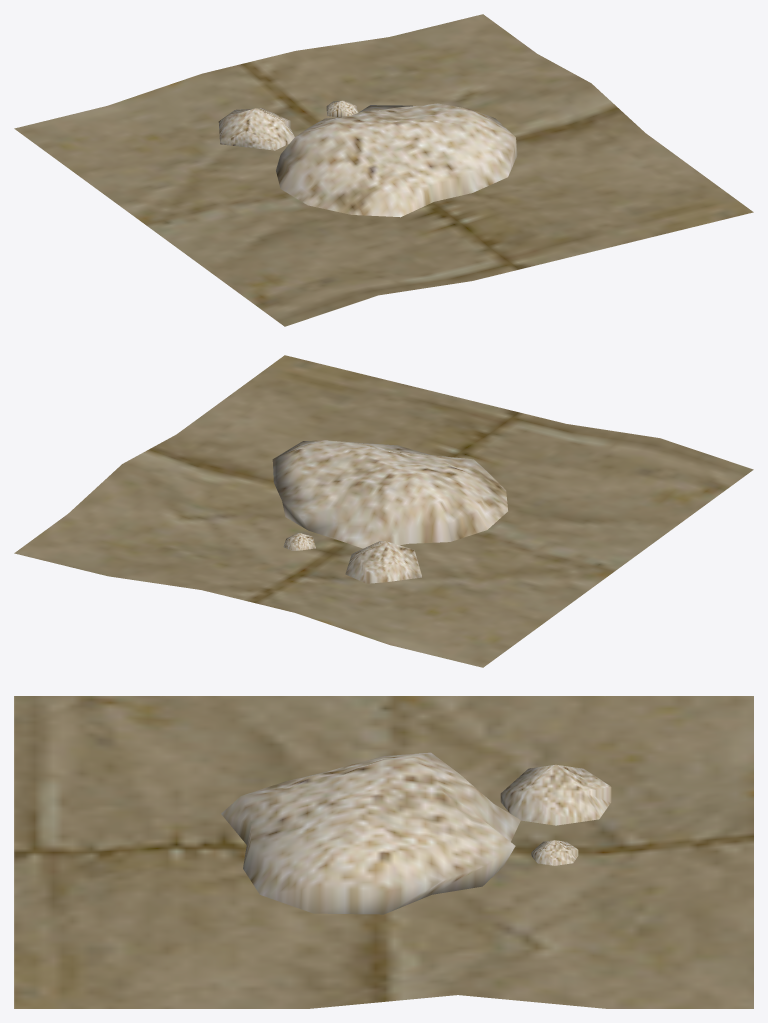
The model's file is Heroin.fbx.
3 renders of one model, top to bottom at view 1: azimuth 30°, elevation 25°; view 2: azimuth 150°, elevation 25°; view 3: azimuth 270°, elevation 25°, orthographic. The views are drawn at different scales.
Parts seen in each view (by area): view 1: Cube.001; view 2: Cube.001; view 3: Cube.001.
Boxes of the visible parts, <box> form: Cube.001: <box>14,14,753,326</box>; Cube.001: <box>14,355,753,667</box>; Cube.001: <box>14,696,753,1008</box>.
Size of the model in its own units: 0.0913 by 0.00904 by 0.0913.
